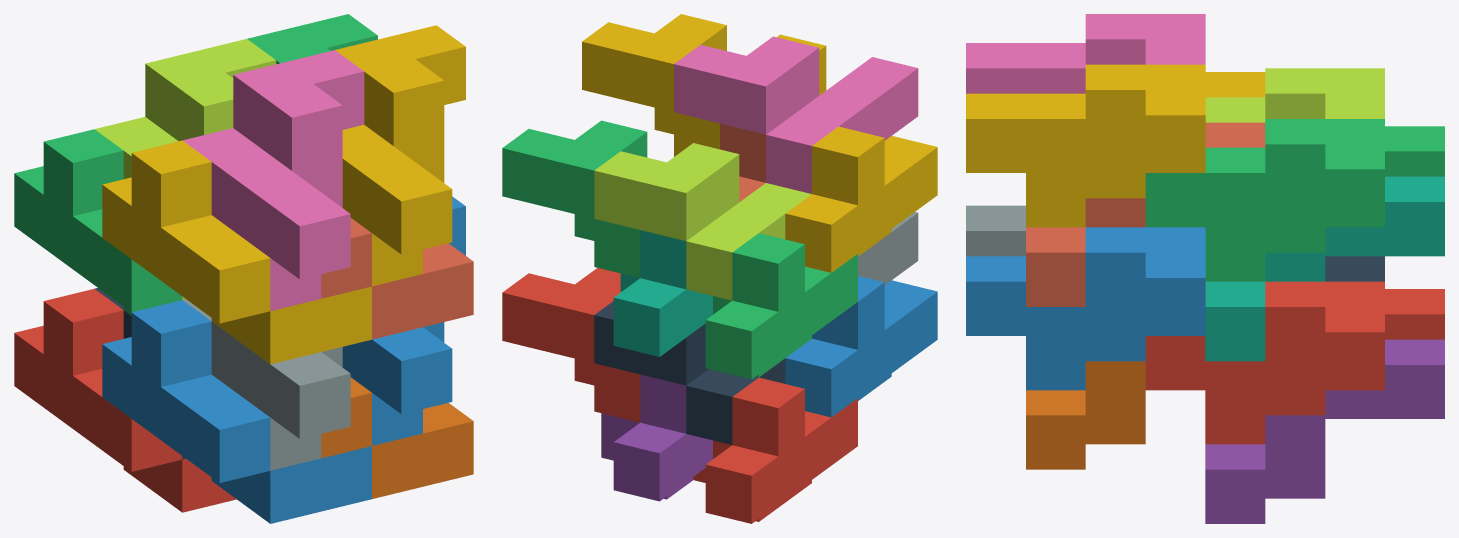
Rendered from tiling.obj.
The picture shows the model from 3 angles, left to right: view 1: azimuth 30°, elevation 25°; view 2: azimuth 150°, elevation 25°; view 3: azimuth 270°, elevation 25°; orthographic projection. The views are drawn at different scales.
Visible parts, largest first — view 1: copy_2_domain_4, copy_1_domain_4, copy_1_domain_2, copy_2_domain_8, copy_1_domain_1, copy_1_domain_3, copy_2_domain_2, copy_2_domain_3, copy_2_domain_6, copy_1_domain_6, copy_1_domain_8, copy_2_domain_7; view 2: copy_2_domain_4, copy_2_domain_3, copy_1_domain_4, copy_1_domain_1, copy_1_domain_3, copy_1_domain_2, copy_2_domain_7, copy_2_domain_8, copy_2_domain_5, copy_1_domain_5, copy_1_domain_7, copy_2_domain_1 (+2 smaller); view 3: copy_2_domain_8, copy_2_domain_7, copy_2_domain_6, copy_2_domain_5, copy_1_domain_5, copy_1_domain_7, copy_2_domain_4, copy_1_domain_6, copy_1_domain_8, copy_2_domain_3, copy_2_domain_2, copy_1_domain_1 (+3 smaller).
Boxes of the visible parts, x1,y1,x2,y2 form: copy_2_domain_4: (183,50,364,310); copy_1_domain_4: (102,140,371,364); copy_1_domain_2: (102,300,371,523); copy_2_domain_8: (335,25,465,286); copy_1_domain_1: (14,288,236,512); copy_1_domain_3: (14,129,182,315); copy_2_domain_2: (183,299,350,470); copy_2_domain_3: (94,39,276,299); copy_2_domain_6: (342,196,465,445); copy_1_domain_6: (321,377,473,498); copy_1_domain_8: (321,218,473,339); copy_2_domain_7: (247,14,377,64); copy_2_domain_4: (674,36,918,193); copy_2_domain_3: (594,143,811,300); copy_1_domain_4: (785,126,937,272); copy_1_domain_1: (693,377,857,523); copy_1_domain_3: (705,233,857,379); copy_1_domain_2: (785,276,937,417); copy_2_domain_7: (502,120,647,277); copy_2_domain_8: (582,14,826,156); copy_2_domain_5: (502,268,640,422); copy_1_domain_5: (601,374,712,501); copy_1_domain_7: (613,230,712,356); copy_2_domain_1: (594,301,785,444); copy_2_domain_8: (966,64,1205,227); copy_2_domain_7: (1145,119,1384,281); copy_2_domain_6: (966,227,1205,390); copy_2_domain_5: (1145,281,1384,444); copy_1_domain_5: (1205,339,1444,523); copy_1_domain_7: (1205,176,1444,361); copy_2_domain_4: (966,14,1205,93); copy_1_domain_6: (1026,361,1145,469); copy_1_domain_8: (1026,122,1265,306); copy_2_domain_3: (1205,68,1384,122); copy_2_domain_2: (966,205,1025,256); copy_1_domain_1: (1385,289,1444,339).
Size of the model in its own units: 6 by 8 by 8.
